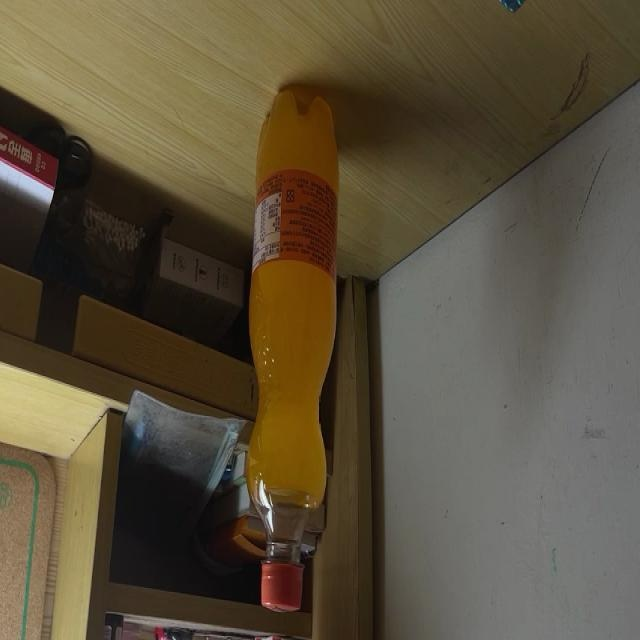Fanta: (246, 87, 340, 614)
